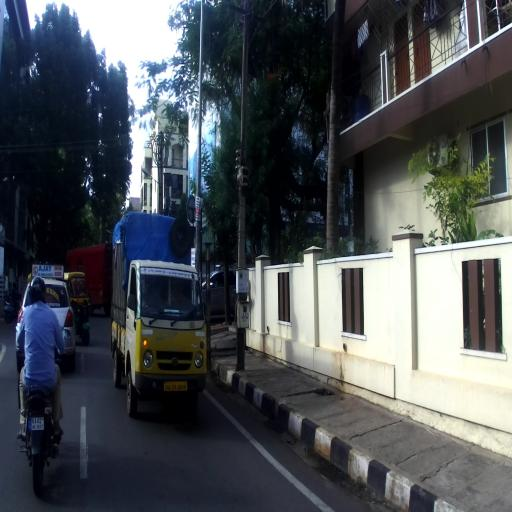street_light_0: (141, 168, 163, 198)
